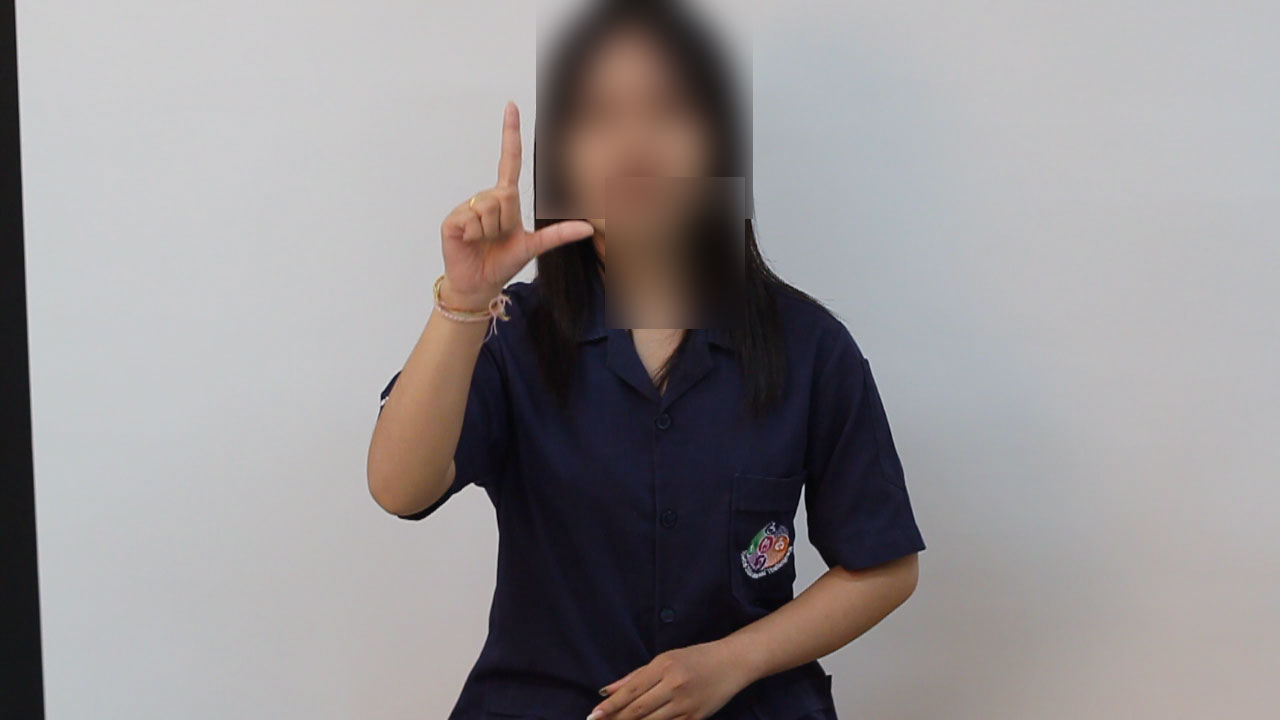lor: (429, 95, 604, 308)
